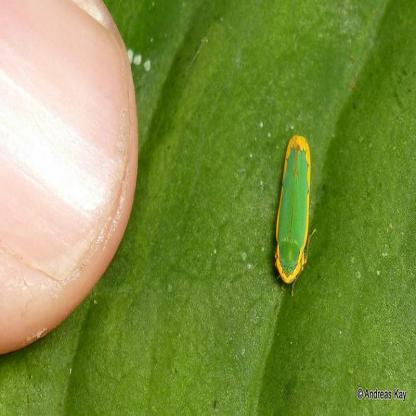green-leafhopper: (269, 128, 323, 288)
